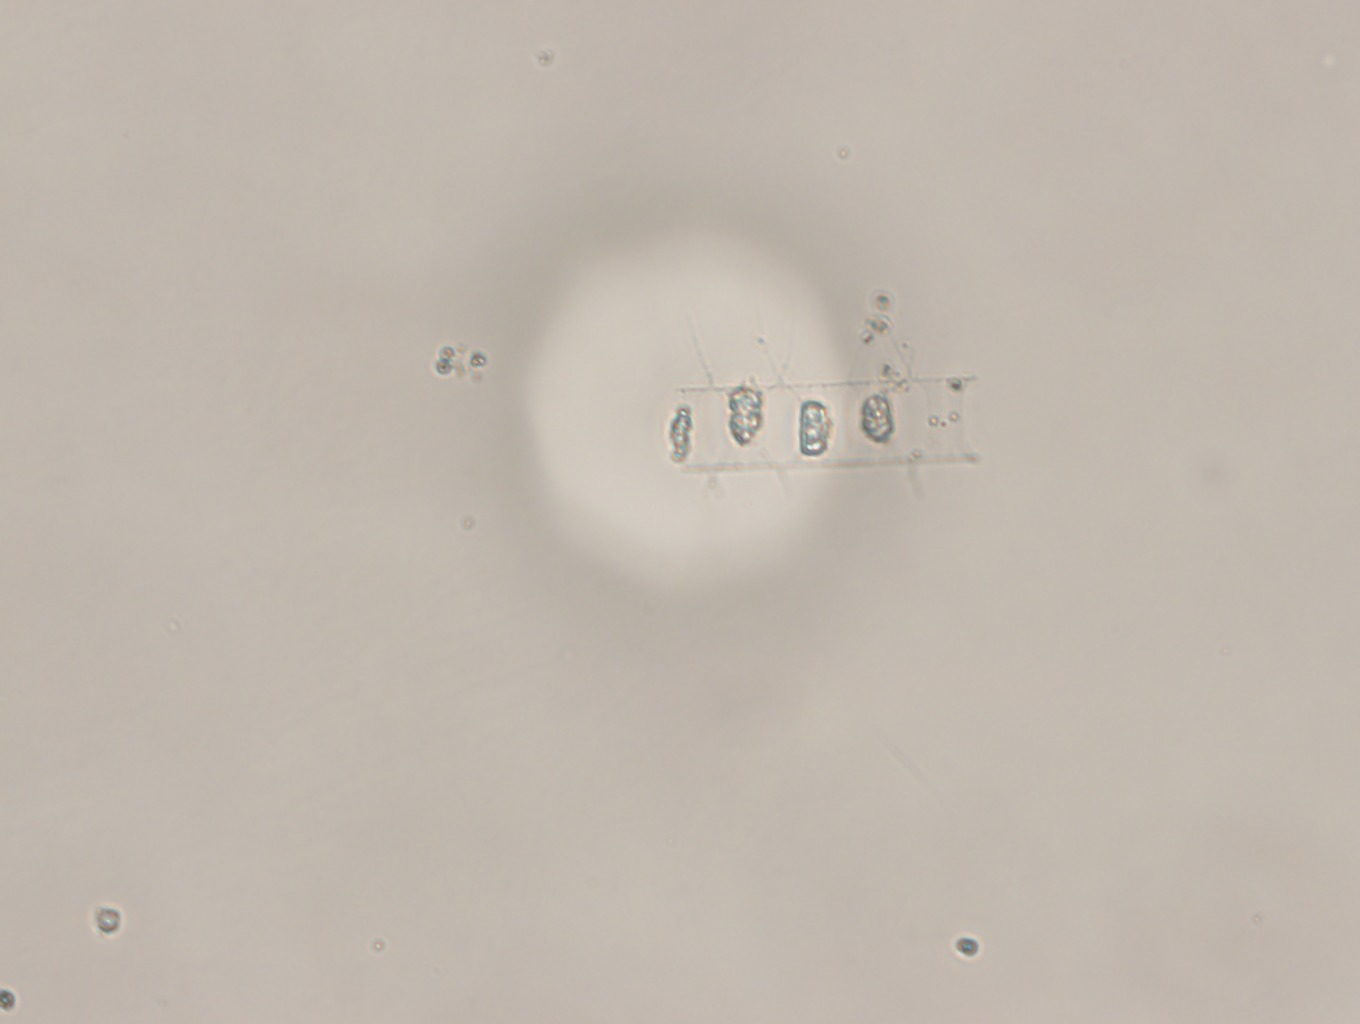chaetoceros: (614, 319, 1043, 517)
